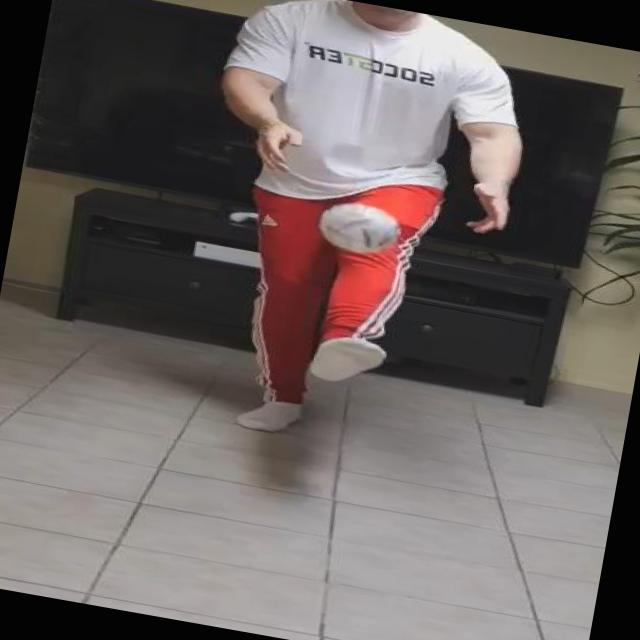Soccer Ball: (313, 197, 407, 260)
